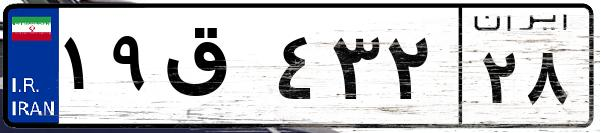1: (57, 26, 110, 100)
2: (385, 28, 445, 110), (475, 38, 525, 113)
3: (330, 28, 385, 110)
4: (270, 28, 330, 110)
8: (525, 38, 570, 115)
9: (110, 28, 158, 98)
ق: (158, 20, 270, 120)
